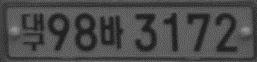1: (160, 12, 184, 51)
2: (214, 12, 237, 52)
3: (133, 13, 158, 51)
7: (186, 12, 211, 51)
8: (73, 12, 97, 51)
9: (46, 12, 70, 51)
대구_V: (22, 11, 45, 51)
바: (99, 14, 124, 49)
